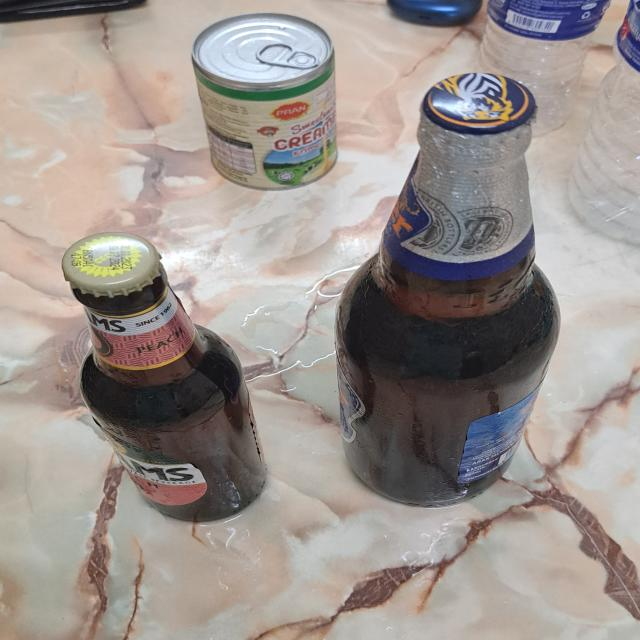can: (192, 13, 332, 191)
glass bottle: (334, 73, 560, 510), (61, 230, 268, 524)
plastic bottle: (473, 0, 610, 138), (567, 0, 640, 251)
pop tab: (256, 43, 320, 69)
